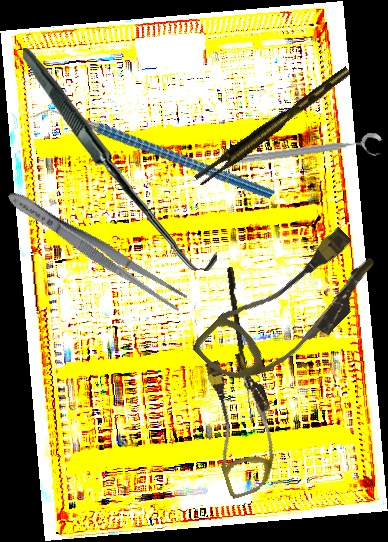Cannula: (190, 210, 387, 411), (189, 349, 294, 500)
Chopper: (28, 40, 276, 270)
Dressing Forceps: (2, 184, 190, 315)
Fixation Ring: (230, 131, 385, 178)
Hook Surgical: (15, 48, 225, 271), (223, 266, 261, 425)
Tissue Forceps: (190, 66, 357, 187)
